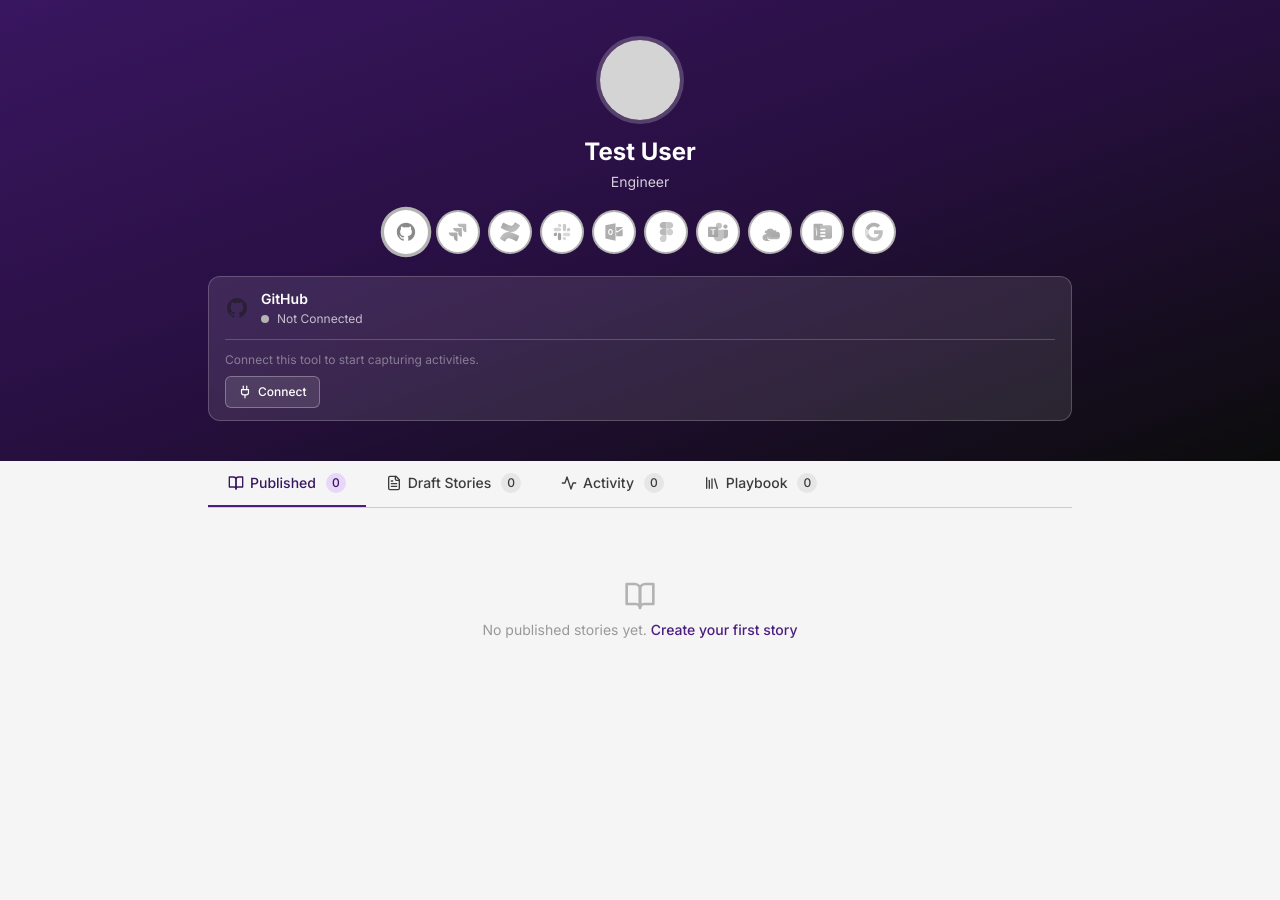
Test: ProfileViewPage — Tabs › shows draft stories empty state after switching tab
What coordinates should you click on to do the following:
click the button "Draft Stories 0"
I would click on:
 (453, 484)
Its box is [366, 461, 541, 507].
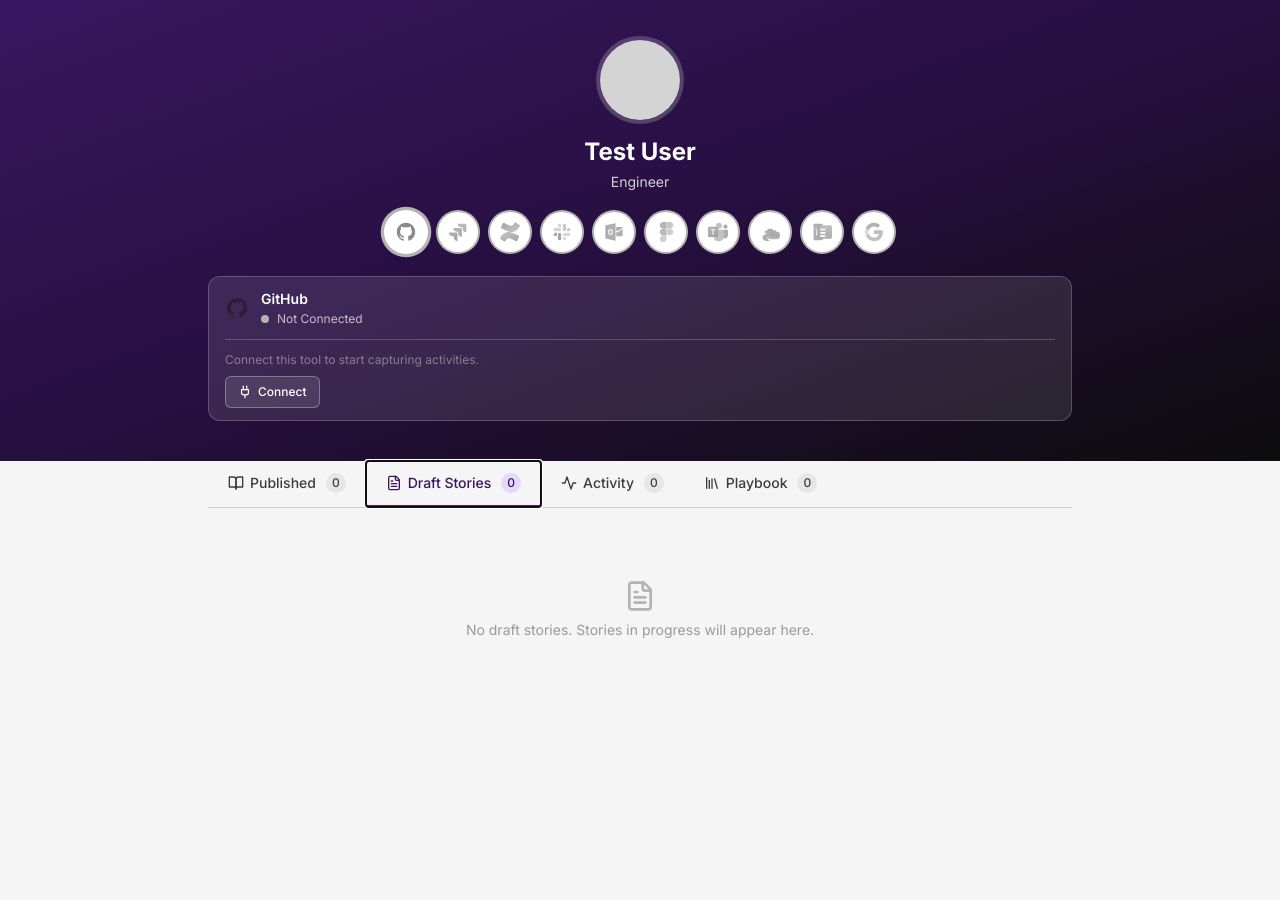
expect the text "No draft stories. Stories in progress will appear here." is shown: met, box [466, 621, 814, 638]
